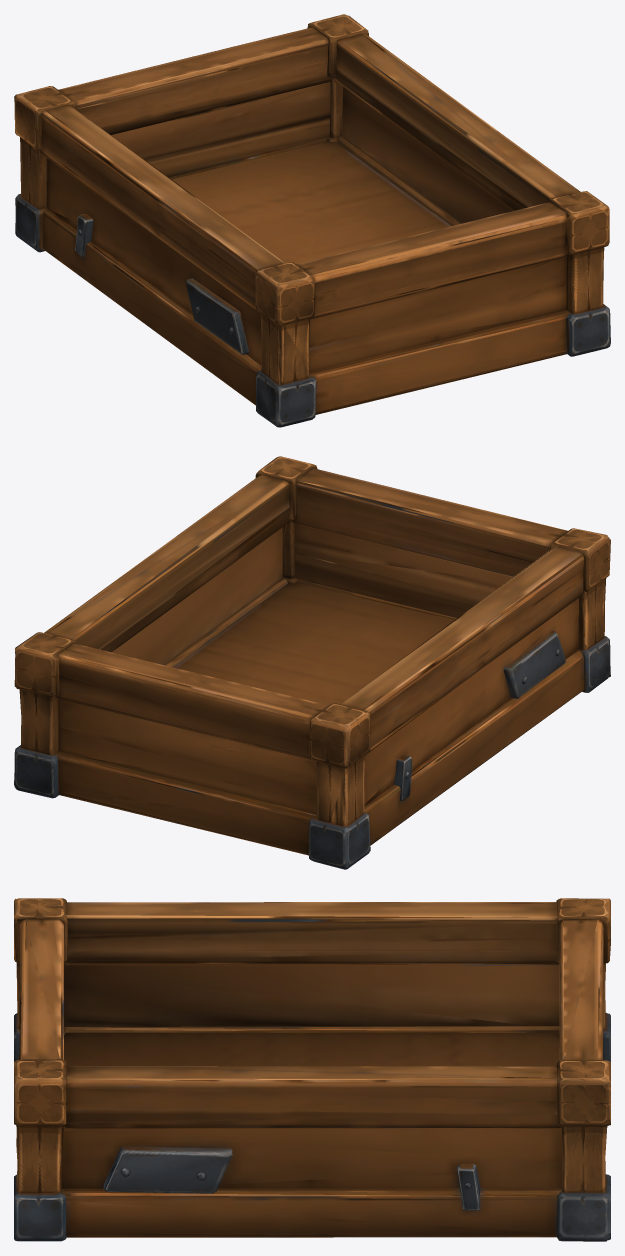
File: Wooden_Crate_Panel.fbx
3 renders of one model, top to bottom at view 1: azimuth 30°, elevation 25°; view 2: azimuth 150°, elevation 25°; view 3: azimuth 270°, elevation 25°, orthographic. The views are drawn at different scales.
Visible parts, largest first — view 1: mesh_node; view 2: mesh_node; view 3: mesh_node.
Part boxes in pixels (bbox=[...]): mesh_node: bbox=[14, 14, 610, 427]; mesh_node: bbox=[14, 456, 610, 869]; mesh_node: bbox=[14, 898, 610, 1241].
Bounding box in the file's own units: 73.44 × 30.08 × 100.
Materials: 1 (1 with a texture image).
